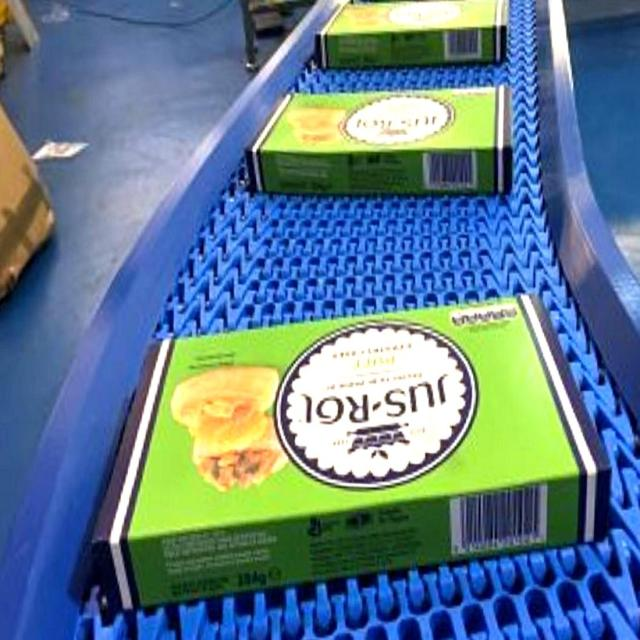food: (68, 289, 613, 614), (247, 82, 513, 198), (314, 0, 509, 71)
